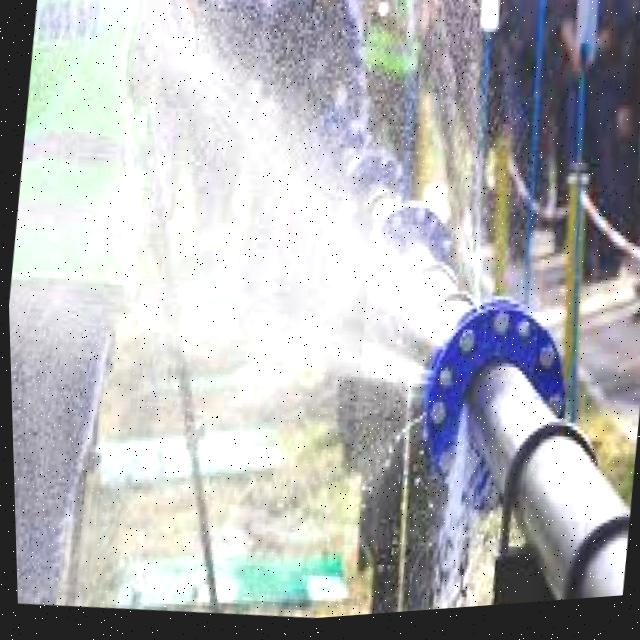corrosion: (316, 204, 569, 573)
